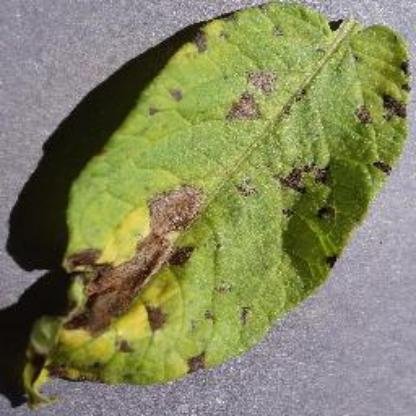Early-Blight: (21, 2, 415, 404)
